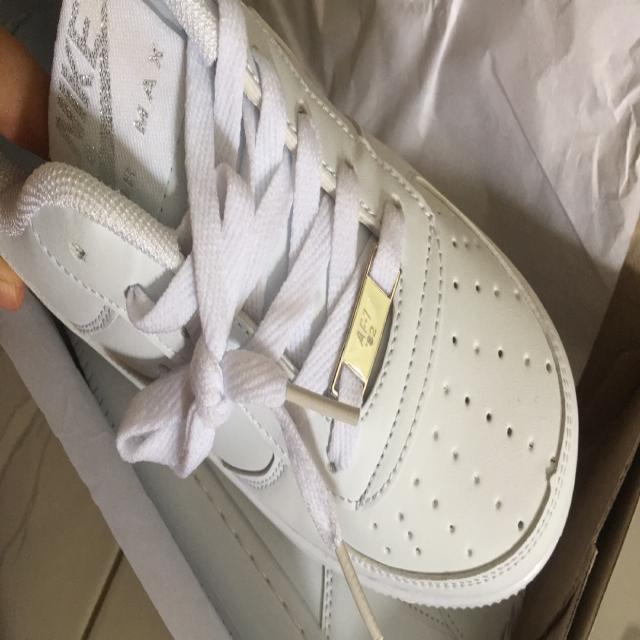nike fake air force: (0, 0, 583, 615)
